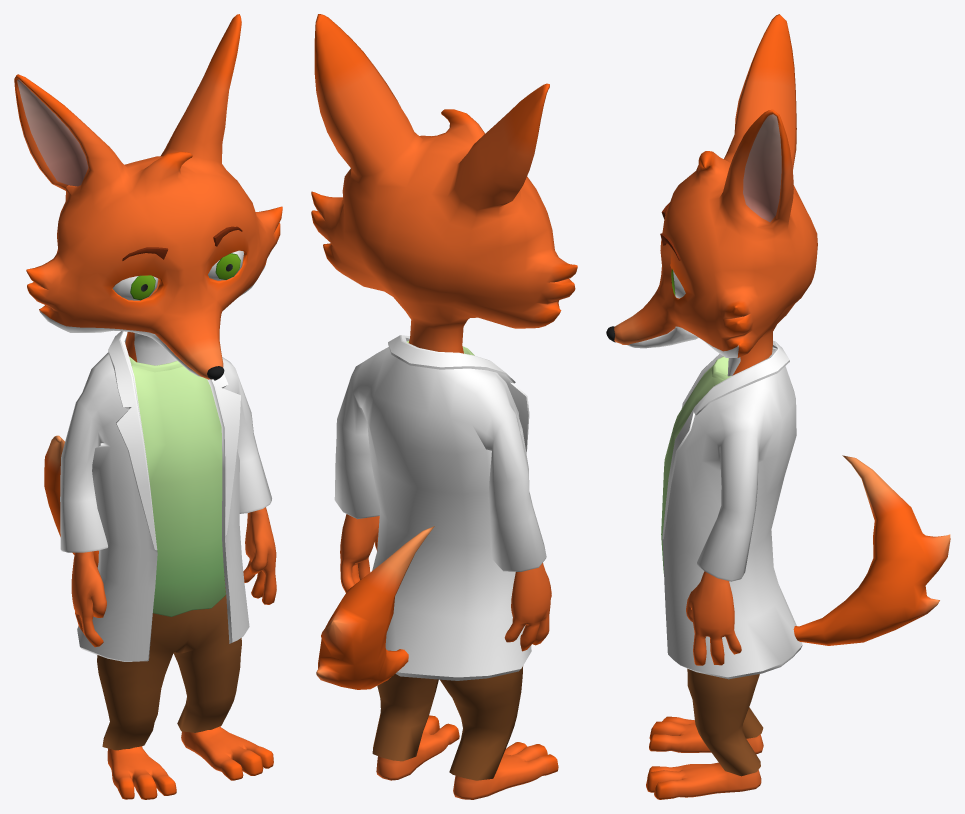
Rendered from edward.gltf.
The picture shows the model from 3 angles, left to right: view 1: azimuth 30°, elevation 25°; view 2: azimuth 150°, elevation 25°; view 3: azimuth 270°, elevation 25°; orthographic projection. The views are drawn at different scales.
Visible parts, largest first — view 1: Edward; view 2: Edward; view 3: Edward.
Part boxes in pixels (x1,y1,x2,y2): Edward: [14, 14, 282, 799]; Edward: [311, 14, 577, 799]; Edward: [606, 14, 950, 799].
Bounding box in the file's own units: 0.5022 × 1.34 × 0.5961.
1 material, 1 textured.
